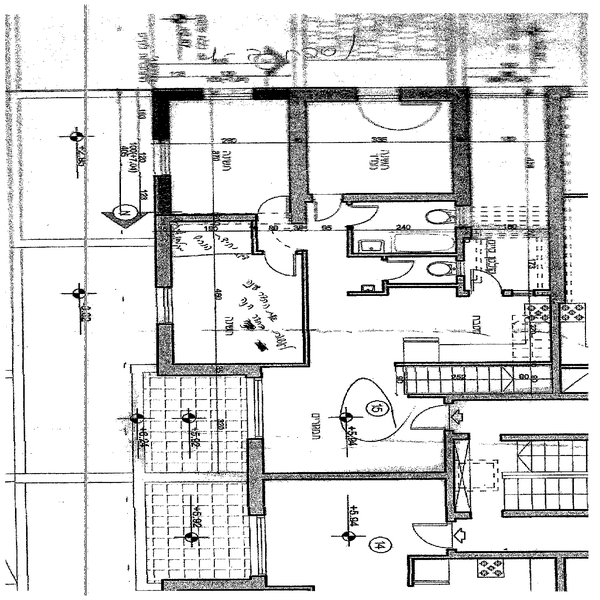door: (401, 514, 455, 550), (409, 404, 455, 438), (347, 199, 385, 238), (257, 189, 294, 226), (470, 262, 504, 295), (310, 190, 338, 223), (381, 258, 414, 284), (266, 253, 298, 279)
room: (151, 213, 318, 376), (285, 79, 474, 212), (150, 81, 313, 234), (442, 387, 597, 515), (243, 469, 457, 558), (453, 84, 572, 243), (457, 227, 566, 297)
wall: (542, 92, 570, 304), (281, 101, 308, 226), (450, 93, 475, 205), (261, 469, 446, 483), (240, 435, 270, 518), (154, 574, 272, 595), (255, 80, 358, 104), (453, 390, 596, 407), (150, 216, 176, 290), (301, 251, 316, 376), (158, 362, 260, 379), (397, 84, 471, 104), (350, 191, 463, 204), (507, 506, 585, 523), (146, 82, 202, 105), (450, 551, 590, 560), (551, 303, 564, 393), (153, 314, 170, 374), (438, 484, 462, 524), (499, 434, 587, 444), (445, 428, 464, 469), (556, 557, 570, 596)
window: (200, 82, 257, 107), (247, 515, 269, 579), (248, 374, 267, 440), (355, 82, 402, 105), (151, 288, 175, 324), (473, 86, 544, 97), (153, 144, 175, 174)
